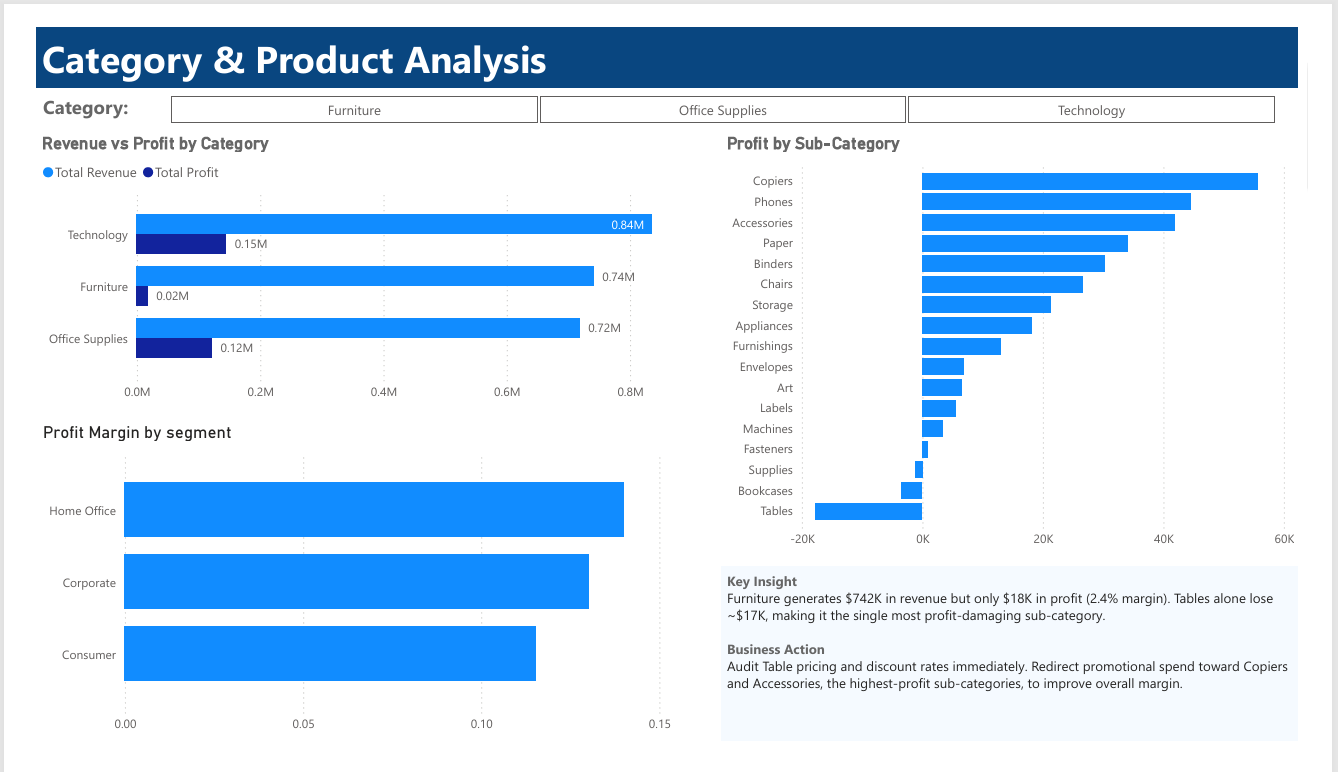

The dashboard page shown, as its layout file describes it:
{"tool":"powerbi","page":{"name":"Category Analysis","canvas":[1280,720],"ordinal":1},"visuals":[{"type":"textbox","box":[8.5,0,1263,61],"z":0},{"type":"slicer","fields":{"Values":["public superstore.category"]},"box":[117.1,60.9,1154.4,37.3],"z":1000},{"type":"textbox","box":[9.8,60.9,107.3,37.3],"z":2000},{"type":"clusteredBarChart","title":"Revenue vs Profit by Category","fields":{"Category":["public superstore.category"],"Y":["public superstore.Total Revenue","public superstore.Total Profit"]},"box":[9.2,104.7,675.3,276.8],"z":3000},{"type":"barChart","title":"Profit by Sub-Category","fields":{"Category":["public superstore.sub_category"],"Y":["public superstore.Total Profit"]},"box":[694.3,104.7,577.2,424.7],"z":4000},{"type":"textbox","box":[694.2,539,576.6,174.7],"z":6000},{"type":"clusteredBarChart","fields":{"Category":["public superstore.segment"],"Y":["public superstore.Profit Margin"]},"box":[9.7,393.5,674.7,320.1],"z":6001}]}

Visuals, with their boxes in screenshot pixels (x1, y1, x2, y2), scaled from the page's 1280x720 canvas onto the 1338x772 screenshot:
textbox: (9, 0, 1329, 65)
slicer - public superstore.category: (122, 65, 1329, 105)
textbox: (10, 65, 122, 105)
"Revenue vs Profit by Category" clusteredBarChart: (10, 112, 716, 409)
"Profit by Sub-Category" barChart: (726, 112, 1329, 568)
textbox: (726, 578, 1328, 765)
clusteredBarChart - public superstore.segment x public superstore.Profit Margin: (10, 422, 715, 765)
